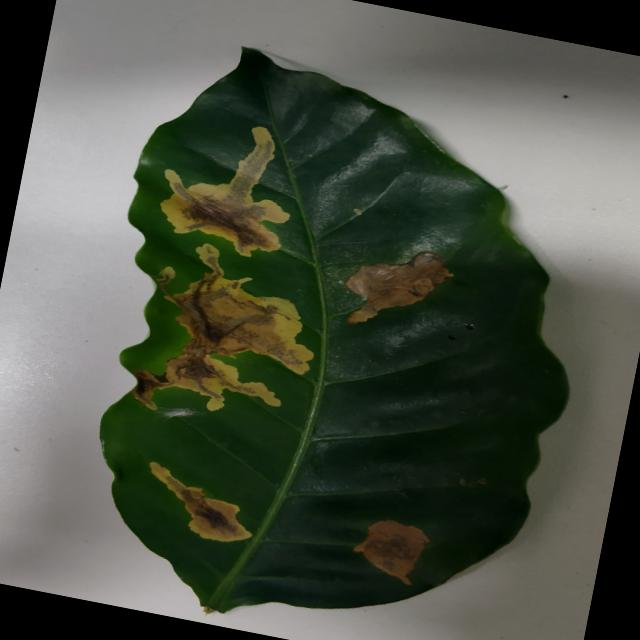PengorokDaunKopi: (132, 244, 314, 411), (160, 127, 290, 256), (150, 462, 251, 541), (345, 252, 453, 324), (353, 520, 429, 585)
